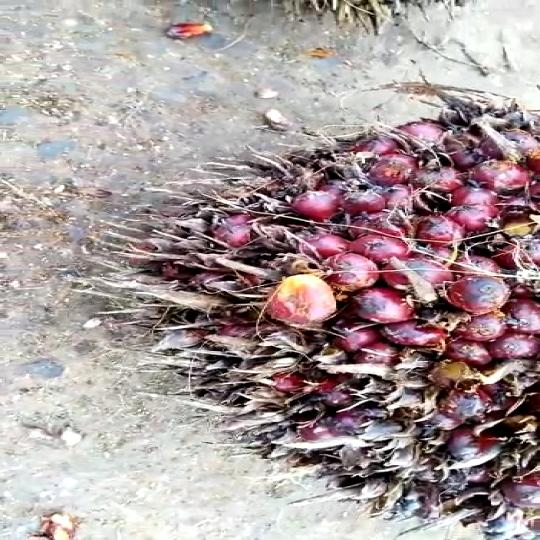masak: (139, 102, 540, 540)
